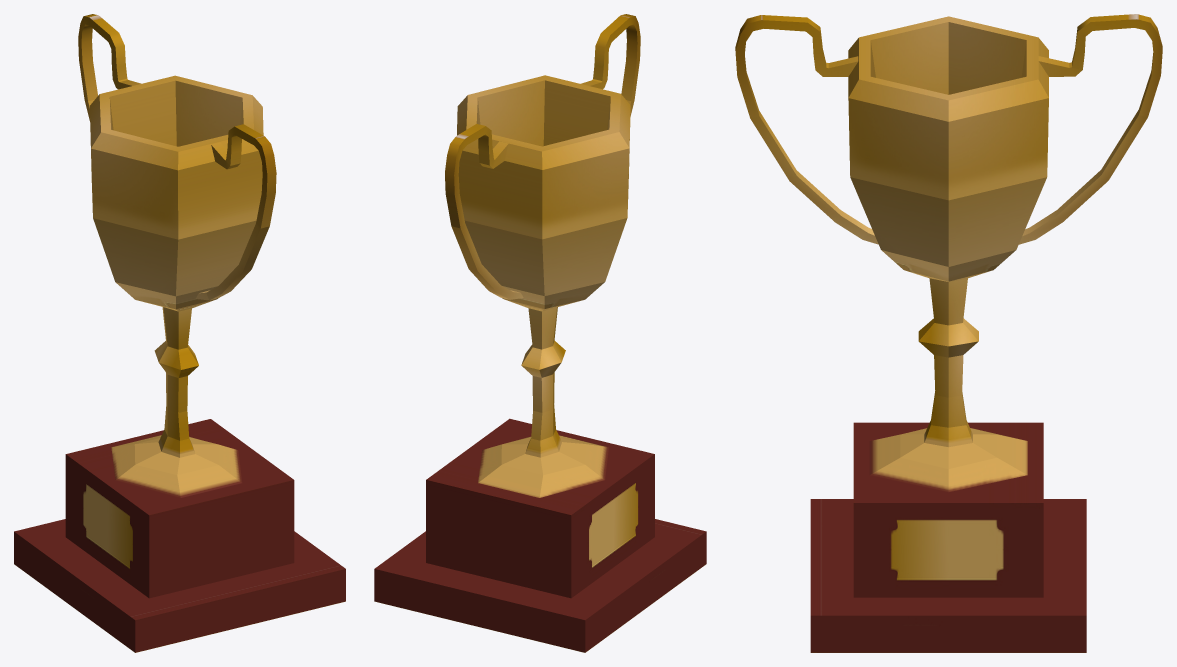
Rendered from pokal_model_textured.fbx.
The picture shows the model from 3 angles, left to right: view 1: azimuth 30°, elevation 25°; view 2: azimuth 150°, elevation 25°; view 3: azimuth 270°, elevation 25°; orthographic projection. The views are drawn at different scales.
Visible parts, largest first — view 1: pCube2; view 2: pCube2; view 3: pCube2.
Part boxes in pixels (x1,y1,x2,y2): pCube2: (14, 14, 345, 652); pCube2: (374, 14, 706, 652); pCube2: (735, 14, 1162, 652).
Bounding box in the file's own units: 2.7 × 6.2 × 4.17.
